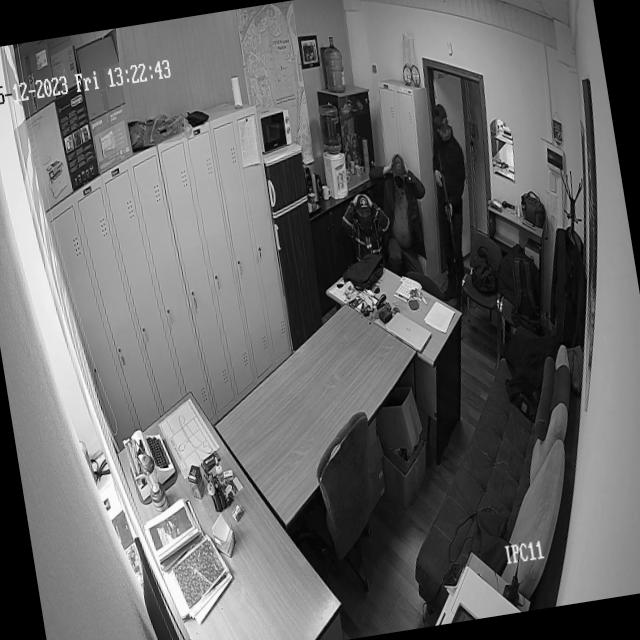gun: (430, 150, 462, 266)
person: (365, 148, 438, 278), (338, 186, 394, 258)
person with a gun: (418, 100, 482, 276)
